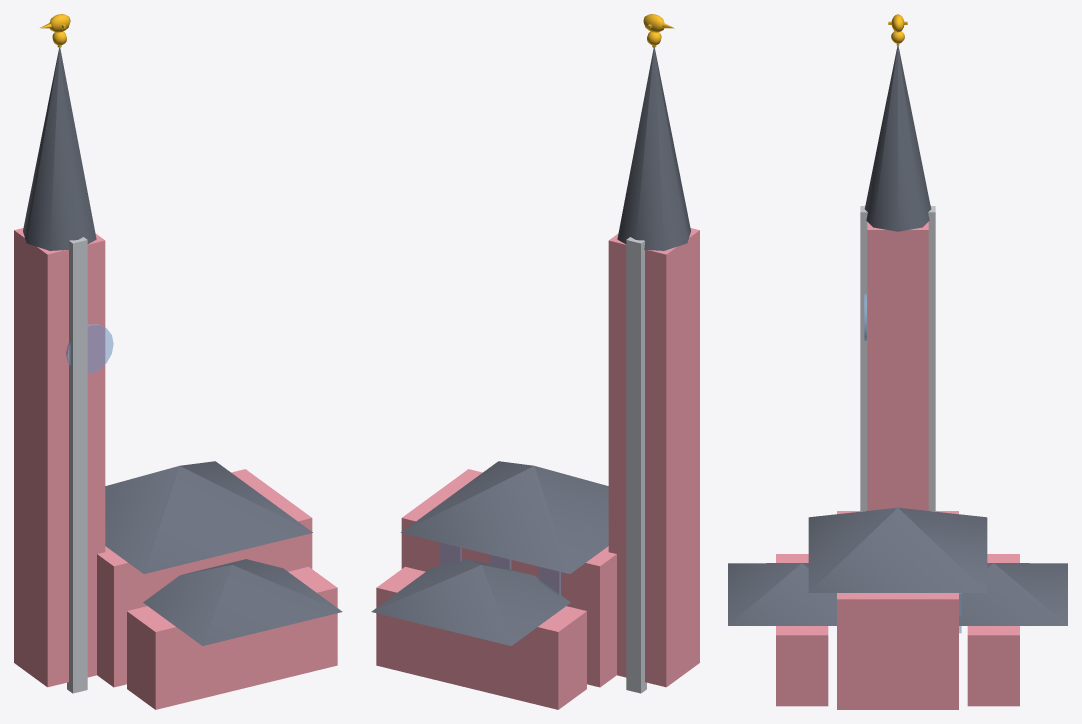
File: danang_cathedral.glb
3 views of the same model, side by side, from view 1: azimuth 30°, elevation 25°; view 2: azimuth 150°, elevation 25°; view 3: azimuth 270°, elevation 25° (orthographic). The views are drawn at different scales.
Size of the model in its own units: 30.5 by 76.49 by 38.97.
